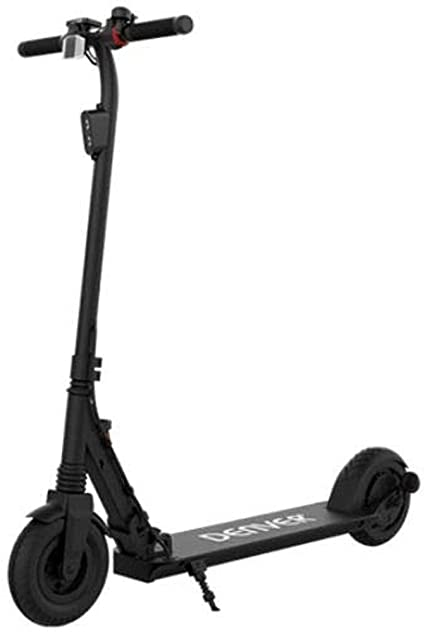scooter: (6, 3, 425, 632)
